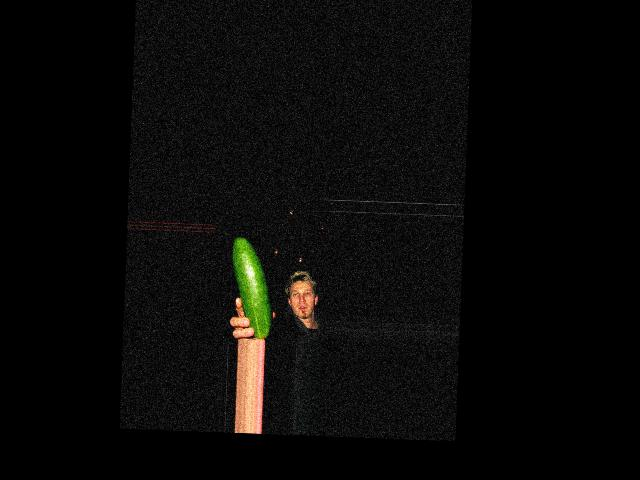cucumber: (228, 237, 273, 338)
